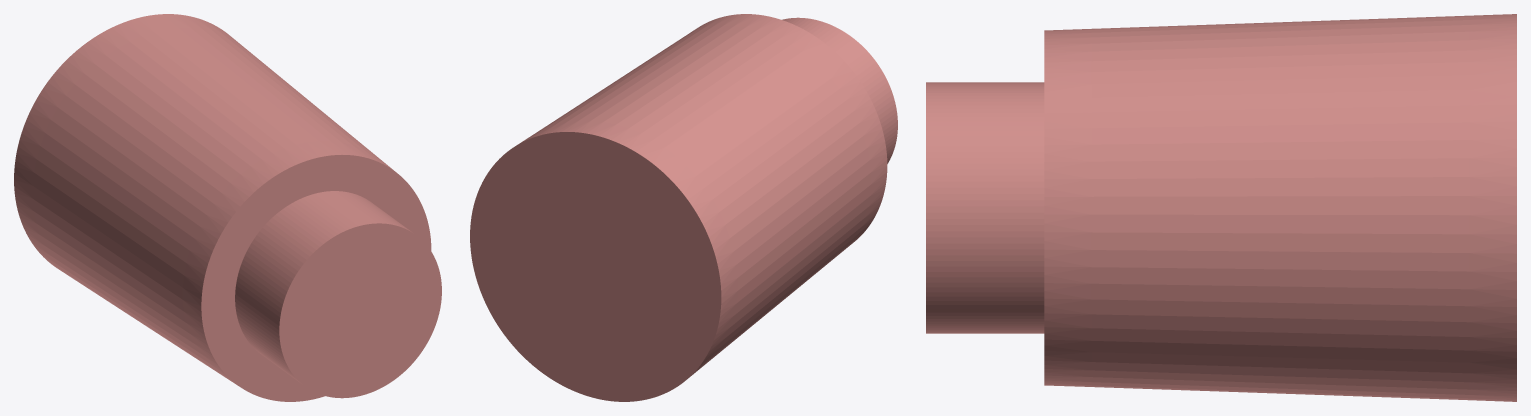
3 renders of one model, left to right at view 1: azimuth 30°, elevation 25°; view 2: azimuth 150°, elevation 25°; view 3: azimuth 270°, elevation 25°, orthographic. The views are drawn at different scales.
Parts seen in each view (by area): view 1: node; view 2: node; view 3: node.
Boxes of the visible parts, box(x1,y1,x2,y2) form: node: box(14, 14, 441, 401); node: box(470, 14, 897, 401); node: box(926, 14, 1516, 401).
Bounding box in the file's own units: 0.1232 × 0.1232 × 0.1876.
